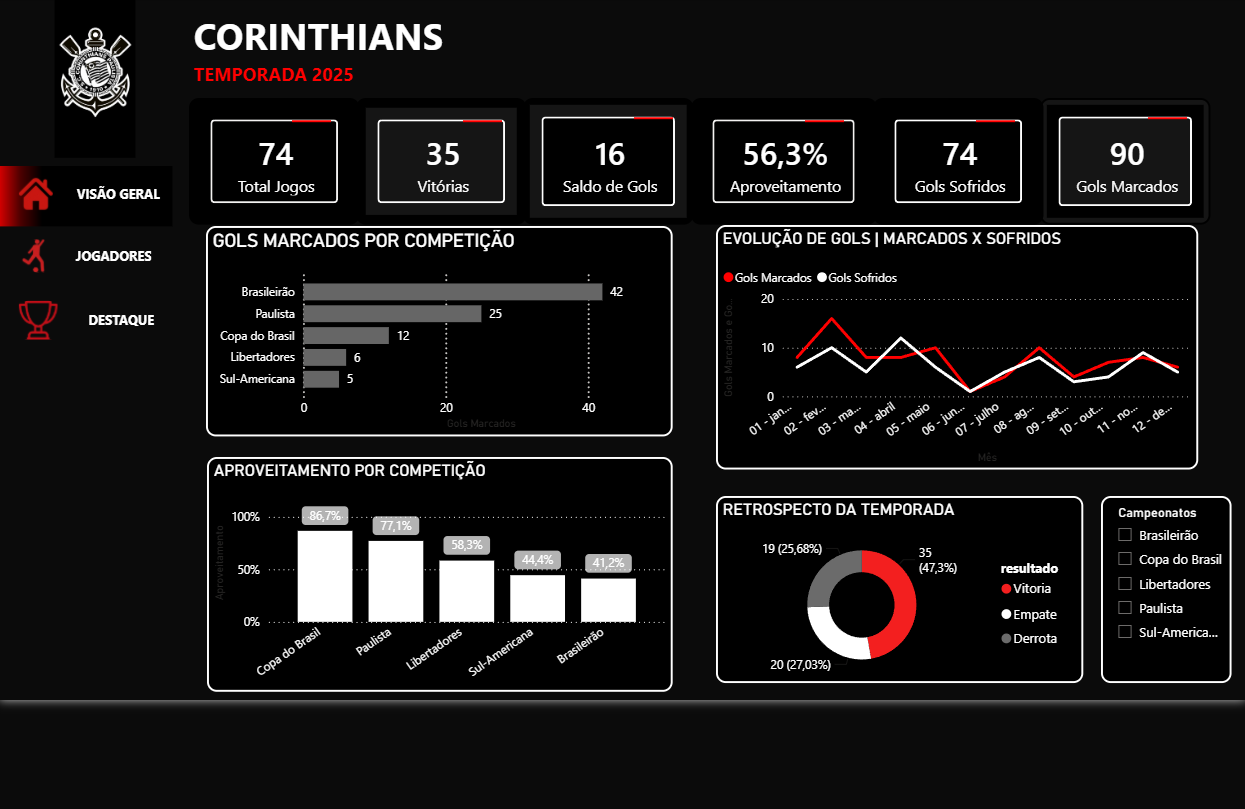

What the dashboard file says about the page in this screenshot:
{"tool":"powerbi","page":{"name":"Visão Geral","canvas":[1280,720],"ordinal":0},"visuals":[{"type":"cardVisual","fields":{"Data":["Jogos.Total Jogos"]},"box":[194.5,102.1,175,130],"z":0},{"type":"cardVisual","fields":{"Data":["Jogos.Vitórias"]},"box":[366.3,102.1,175,130],"z":1000},{"type":"cardVisual","fields":{"Data":["Jogos.Saldo de Gols"]},"box":[538.1,102,175,130],"z":2000},{"type":"cardVisual","fields":{"Data":["Jogos.Gols Pró"]},"box":[1069,102,175.1,130],"z":3000},{"type":"cardVisual","fields":{"Data":["Jogos.Gols Contra"]},"box":[897.3,102,175,130],"z":4000},{"type":"cardVisual","fields":{"Data":["Jogos.Aproveitamento"]},"box":[709.8,102.1,190.6,130.3],"z":5000},{"type":"textbox","box":[194.5,6.8,290.8,59.3],"z":6000},{"type":"textbox","box":[194.5,59.3,244.1,42.8],"z":7000},{"type":"image","box":[1.9,0,192.6,163.4],"z":8000},{"type":"barChart","title":"GOLS MARCADOS POR COMPETIÇÃO","fields":{"Category":["Jogos.competicao"],"Y":["Jogos.Gols Marcados"]},"box":[212,233.4,490.2,215],"z":9000},{"type":"lineChart","title":"EVOLUÇÃO DE GOLS | MARCADOS X SOFRIDOS","fields":{"Category":["Jogos.Mês"],"Y":["Jogos.Gols Marcados","Jogos.Gols Contra"]},"box":[748.9,232.5,495.1,250.9],"z":10000},{"type":"lineStackedColumnComboChart","title":"APROVEITAMENTO POR COMPETIÇÃO","fields":{"Category":["Jogos.competicao"],"Y":["Jogos.Aproveitamento"]},"box":[214,469.8,488.3,241.2],"z":11000},{"type":"actionButton","box":[1.9,221.8,167.3,83.6],"z":12000},{"type":"actionButton","box":[1.9,179,152.7,42.8],"z":13000},{"type":"actionButton","box":[1.9,305.4,143,54.5],"z":14000},{"type":"shape","box":[300.5,110.9,40,29.2],"z":15000},{"type":"shape","box":[475.6,110.9,40,29.2],"z":16000},{"type":"shape","box":[825,110.9,40,29.2],"z":17000},{"type":"shape","box":[998,110.9,40,29.2],"z":18000},{"type":"shape","box":[1179,108,40,29.2],"z":19000},{"type":"shape","box":[652.6,108,40,29.2],"z":20000},{"type":"donutChart","title":"RETROSPECTO DA TEMPORADA","fields":{"Category":["Jogos.resultado"],"Y":["Jogos.Total Jogos"]},"box":[748.9,510.6,377.4,191.6],"z":21000}]}

Visuals, with their boxes on the page's 1280x720 design canvas (x1, y1, x2, y2). These are canvas units, not pixel positions in the 1245x809 screenshot, which may show the page scaled, cropped or inside an application window:
cardVisual - Jogos.Total Jogos: rect(194, 102, 370, 232)
cardVisual - Jogos.Vitórias: rect(366, 102, 541, 232)
cardVisual - Jogos.Saldo de Gols: rect(538, 102, 713, 232)
cardVisual - Jogos.Gols Pró: rect(1069, 102, 1244, 232)
cardVisual - Jogos.Gols Contra: rect(897, 102, 1072, 232)
cardVisual - Jogos.Aproveitamento: rect(710, 102, 900, 232)
textbox: rect(194, 7, 485, 66)
textbox: rect(194, 59, 439, 102)
image: rect(2, 0, 194, 163)
"GOLS MARCADOS POR COMPETIÇÃO" barChart: rect(212, 233, 702, 448)
"EVOLUÇÃO DE GOLS | MARCADOS X SOFRIDOS" lineChart: rect(749, 232, 1244, 483)
"APROVEITAMENTO POR COMPETIÇÃO" lineStackedColumnComboChart: rect(214, 470, 702, 711)
actionButton: rect(2, 222, 169, 305)
actionButton: rect(2, 179, 155, 222)
actionButton: rect(2, 305, 145, 360)
shape: rect(300, 111, 340, 140)
shape: rect(476, 111, 516, 140)
shape: rect(825, 111, 865, 140)
shape: rect(998, 111, 1038, 140)
shape: rect(1179, 108, 1219, 137)
shape: rect(653, 108, 693, 137)
"RETROSPECTO DA TEMPORADA" donutChart: rect(749, 511, 1126, 702)
